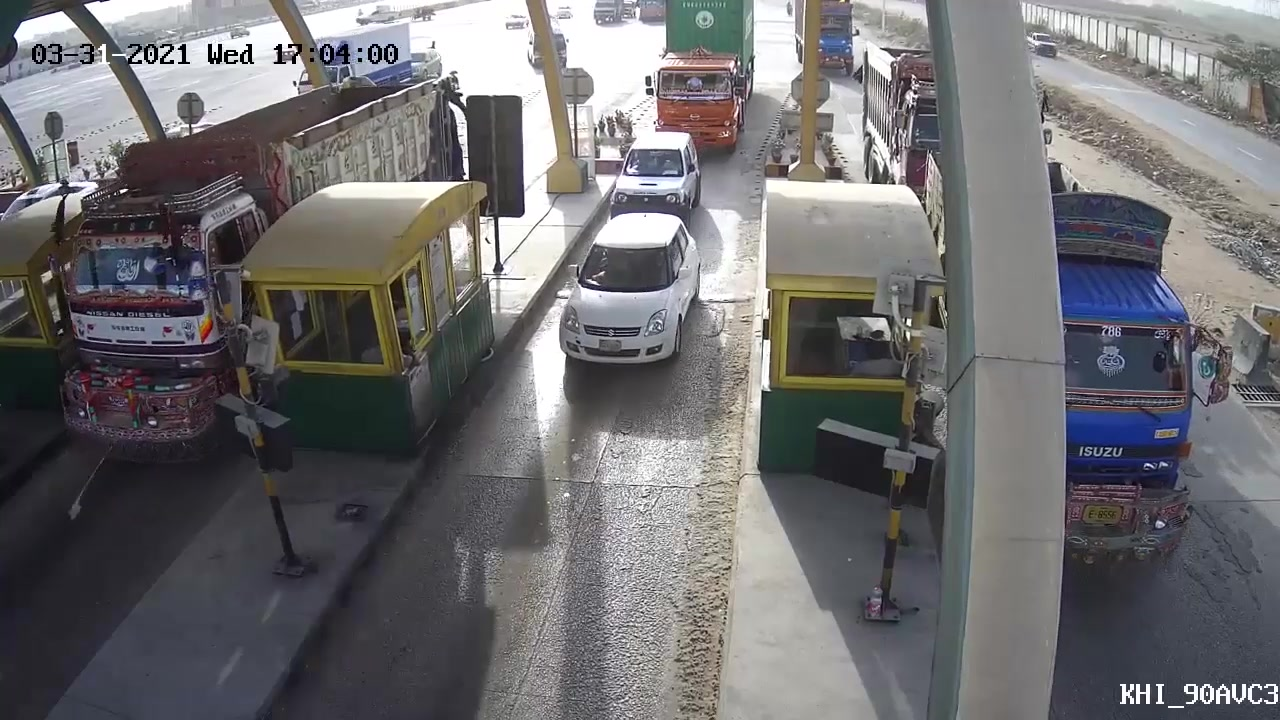F1: (550, 212, 703, 391), (607, 134, 702, 222)
